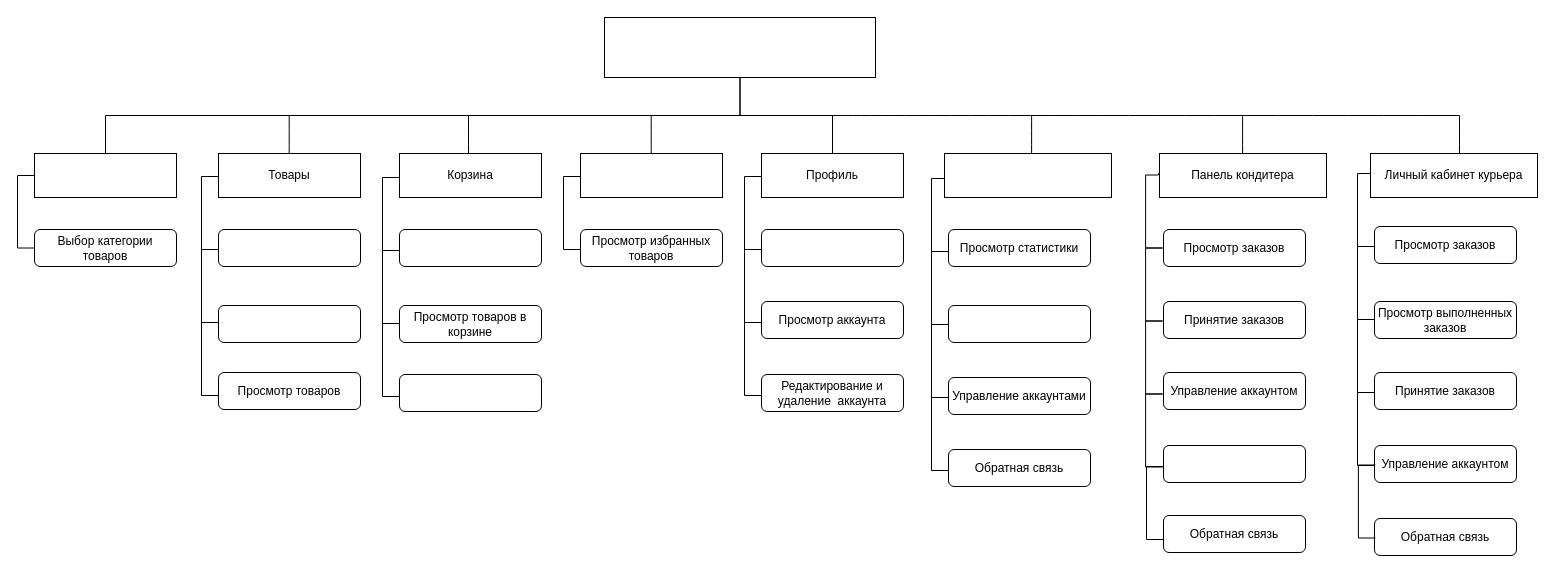
The diagram is 1555 pixels wide and 573 high, and some of its shapes have lost their labels. The centre of each missing label's shape, as x and y in pixels:
Главная: (x=105, y=175)
Добавление товара в избранное: (x=289, y=323)
Добавление товара в корзину: (x=289, y=247)
Избранное: (x=651, y=175)
ИНТЕРНЕТ-МАГАЗИН "СЛАДОСТИ": (x=740, y=47)
Оформление заказа: (x=470, y=393)
Панель администратора: (x=1028, y=175)
Редактирование корзины: (x=470, y=247)
Управление заказами: (x=1019, y=323)
Управление рецептами: (x=1234, y=463)
Установка даты рождения: (x=832, y=247)
